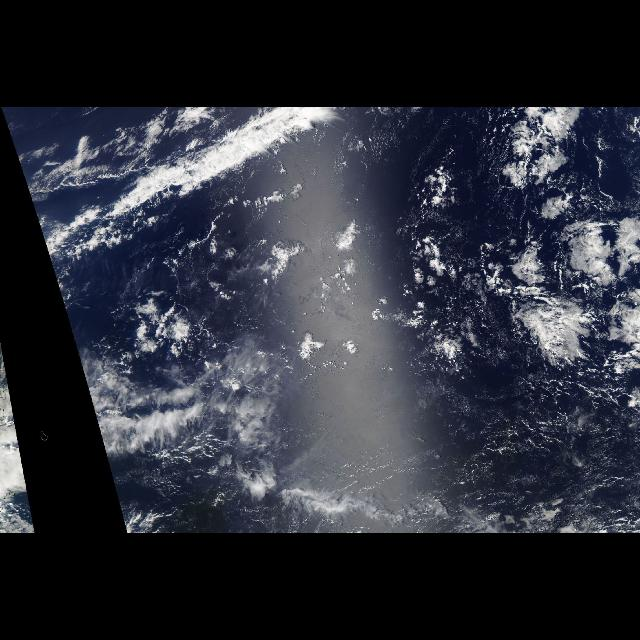Fish: (467, 108, 639, 370), (31, 112, 342, 255), (78, 356, 272, 499), (4, 364, 30, 500)
Gravel: (232, 178, 522, 370)
Sugar: (284, 373, 640, 523)
